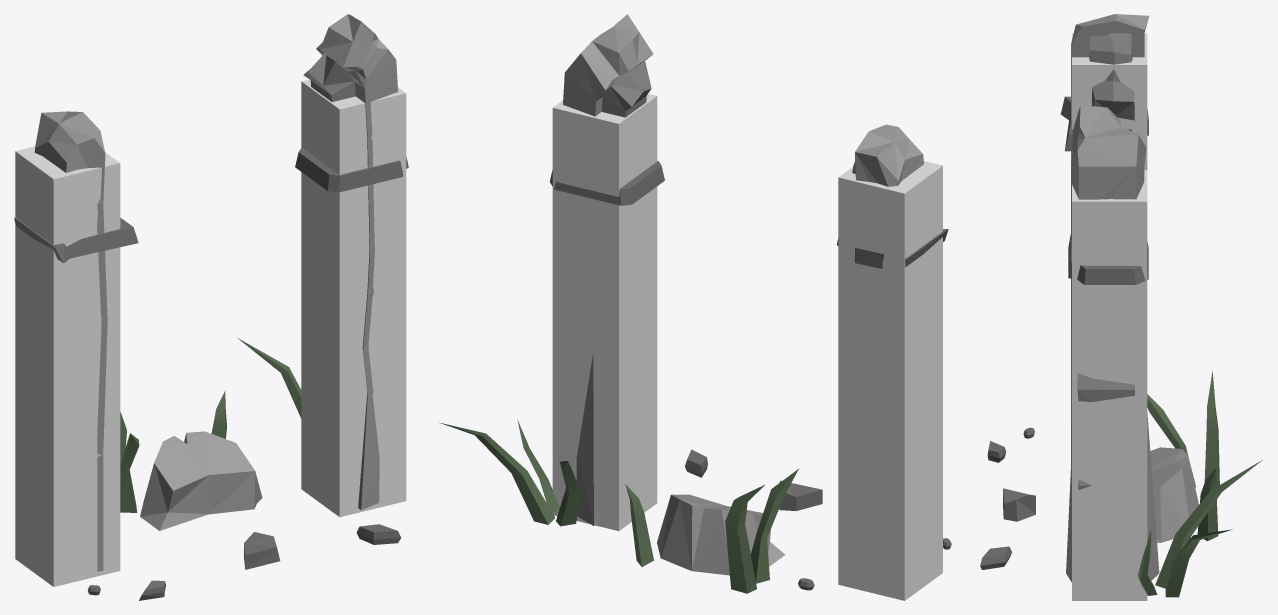
The model's file is ruin_2.glb.
3 renders of one model, left to right at view 1: azimuth 30°, elevation 25°; view 2: azimuth 150°, elevation 25°; view 3: azimuth 270°, elevation 25°, orthographic. The views are drawn at different scales.
Visible parts, largest first — view 1: Cube, Cube.001, ruin_2; view 2: Cube, Cube.001, ruin_2; view 3: Cube.001, ruin_2, Cube.
Boxes of the visible parts, x1,y1,x2,y2 form: Cube: (15, 146, 120, 586); Cube.001: (301, 79, 406, 517); ruin_2: (14, 14, 408, 600); Cube: (838, 161, 942, 600); Cube.001: (552, 93, 657, 530); ruin_2: (439, 14, 951, 593); Cube.001: (1072, 170, 1147, 600); ruin_2: (980, 14, 1262, 597); Cube: (1072, 33, 1147, 169).
Bounding box in the file's own units: 2.6 × 2.84 × 1.53.
1 material, 1 textured.
